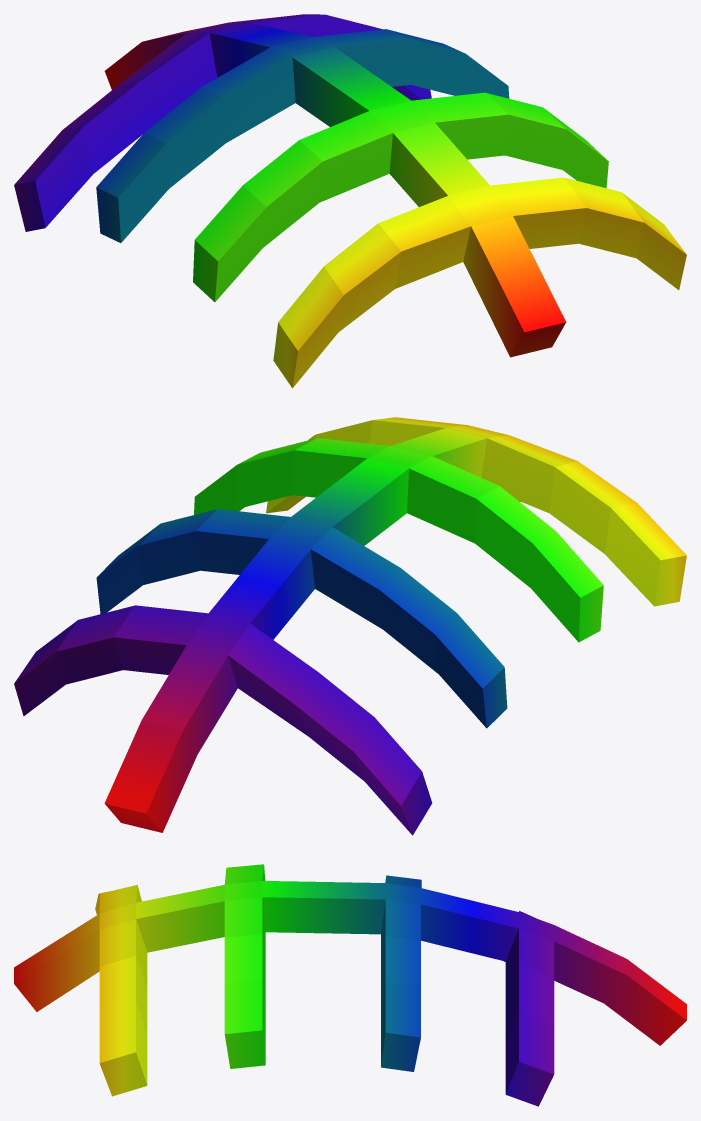
Rendered from Backbone.fbx.
3 renders of one model, top to bottom at view 1: azimuth 30°, elevation 25°; view 2: azimuth 150°, elevation 25°; view 3: azimuth 270°, elevation 25°, orthographic. The views are drawn at different scales.
Visible parts, largest first — view 1: BackBone; view 2: BackBone; view 3: BackBone.
Part boxes in pixels (bbox=[...]): BackBone: bbox=[14, 14, 686, 388]; BackBone: bbox=[14, 417, 686, 835]; BackBone: bbox=[14, 864, 686, 1106].
Size of the model in its own units: 15.15 by 7.51 by 28.13.
Materials: 1 (1 with a texture image).
